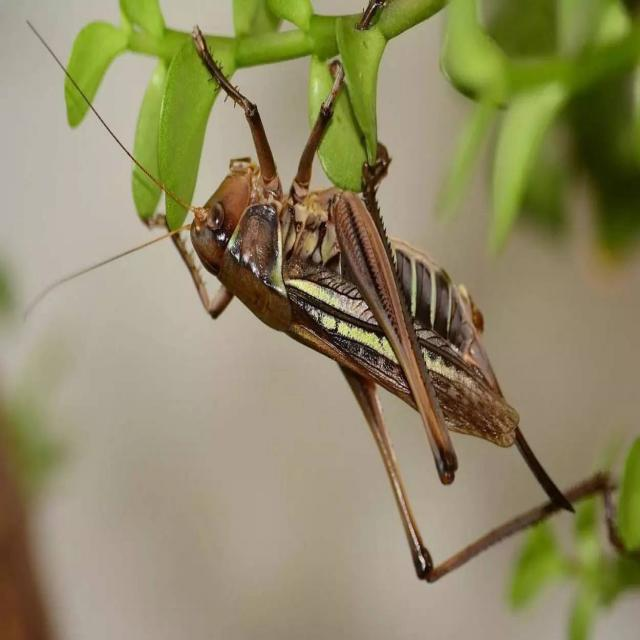ZhaMeng: (136, 19, 579, 535)
